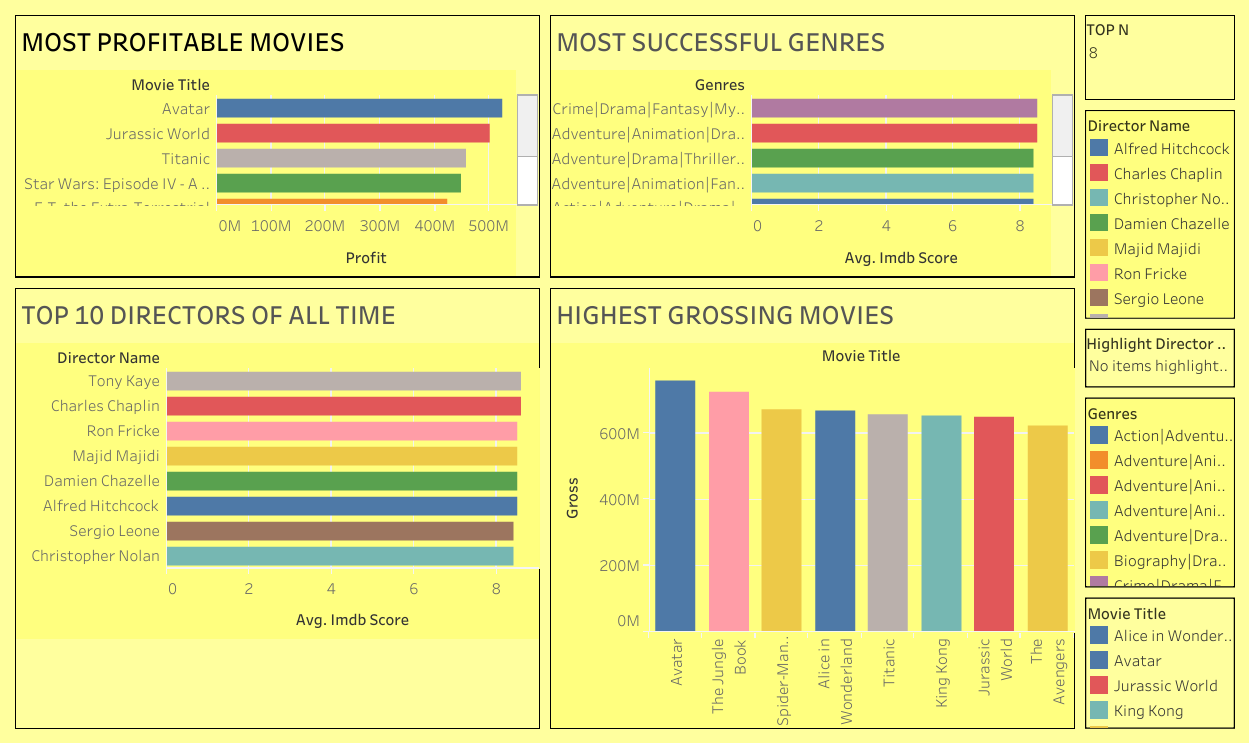

This screenshot's page, from the dashboard's own definition file:
{"tool":"tableau","page":{"name":"Movie DataSet Analysis","canvas":[1000,1000],"units":"permille","ordinal":0},"visuals":[{"type":"worksheet","title":"Profit Wise","mark":"Automatic","rows":["movie_title"],"cols":["Profit"],"box":[8,8.9,428,370.1]},{"type":"worksheet","title":"Most Successful Genres","mark":"Automatic","rows":["genres"],"cols":["imdb_score"],"box":[436,8.9,428,370.1]},{"type":"parameter","param":"[Parameters].[Parameter 1]","box":[864,8.9,128,83.3]},{"type":"legend","title":"Director's Impact","param":"[federated.08zrxg40wpe3ym13c562x0bp0gvd].[none:director_name:nk]","box":[864,92.2,128,194.5]},{"type":"highlighter","title":"Director's Impact","param":"[federated.08zrxg40wpe3ym13c562x0bp0gvd].[none:director_name:nk]","box":[864,286.7,128,60]},{"type":"legend","title":"Most Successful Genres","param":"[federated.08zrxg40wpe3ym13c562x0bp0gvd].[none:genres:nk]","box":[864,346.7,128,177.8]},{"type":"worksheet","title":"Director's Impact","mark":"Automatic","rows":["director_name"],"cols":["imdb_score"],"box":[8,378.9,428,612.2]},{"type":"worksheet","title":"Highest Grossing Movies of All Time","mark":"Automatic","rows":["gross"],"cols":["movie_title"],"box":[436,378.9,428,612.2]},{"type":"legend","title":"Highest Grossing Movies of All Time","param":"[federated.08zrxg40wpe3ym13c562x0bp0gvd].[none:movie_title:nk]","box":[864,524.5,128,253.3]}]}

Visuals, with their boxes on the dashboard's canvas, which has no fixed pixel size, in thousandths of its width and height (x1, y1, x2, y2). These are canvas units, not pixel positions in the 1249x743 screenshot, which may show the page scaled, cropped or inside an application window:
"Profit Wise" worksheet: [x1=8, y1=9, x2=436, y2=379]
"Most Successful Genres" worksheet: [x1=436, y1=9, x2=864, y2=379]
parameter: [x1=864, y1=9, x2=992, y2=92]
"Director's Impact" legend: [x1=864, y1=92, x2=992, y2=287]
"Director's Impact" highlighter: [x1=864, y1=287, x2=992, y2=347]
"Most Successful Genres" legend: [x1=864, y1=347, x2=992, y2=524]
"Director's Impact" worksheet: [x1=8, y1=379, x2=436, y2=991]
"Highest Grossing Movies of All Time" worksheet: [x1=436, y1=379, x2=864, y2=991]
"Highest Grossing Movies of All Time" legend: [x1=864, y1=524, x2=992, y2=778]
